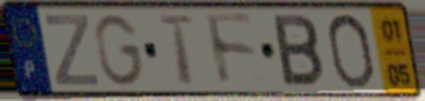B: (270, 12, 327, 90)
F: (202, 11, 260, 91)
G: (92, 12, 147, 89)
O: (324, 11, 377, 91)
T: (156, 13, 198, 88)
Z: (42, 12, 102, 88)
